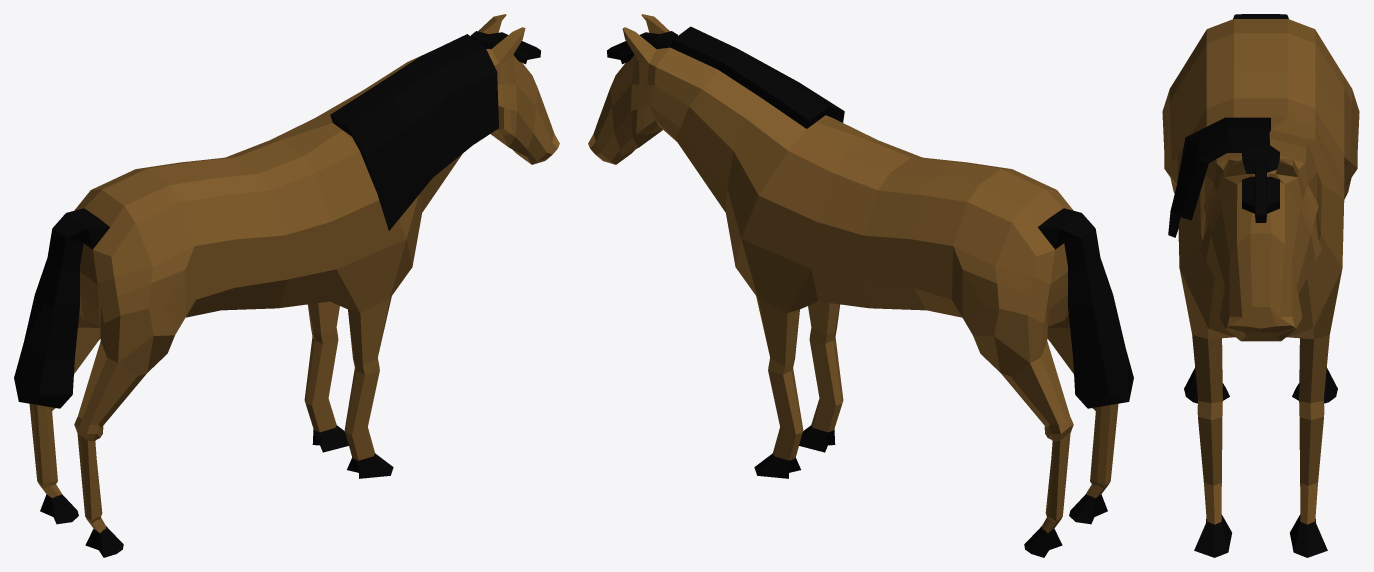
Rendered from horse.fbx.
The picture shows the model from 3 angles, left to right: view 1: azimuth 30°, elevation 25°; view 2: azimuth 150°, elevation 25°; view 3: azimuth 270°, elevation 25°; orthographic projection. The views are drawn at different scales.
Visible parts, largest first — view 1: Plane, Plane.001; view 2: Plane, Plane.001; view 3: Plane, Plane.001.
Boxes of the visible parts, <box> form: Plane: <box>29,14,559,532</box>; Plane.001: <box>14,31,540,557</box>; Plane: <box>588,14,1118,532</box>; Plane.001: <box>607,26,1133,557</box>; Plane: <box>1162,19,1359,524</box>; Plane.001: <box>1168,14,1337,557</box>.
Bounding box in the file's own units: 344 × 252 × 91.79.
